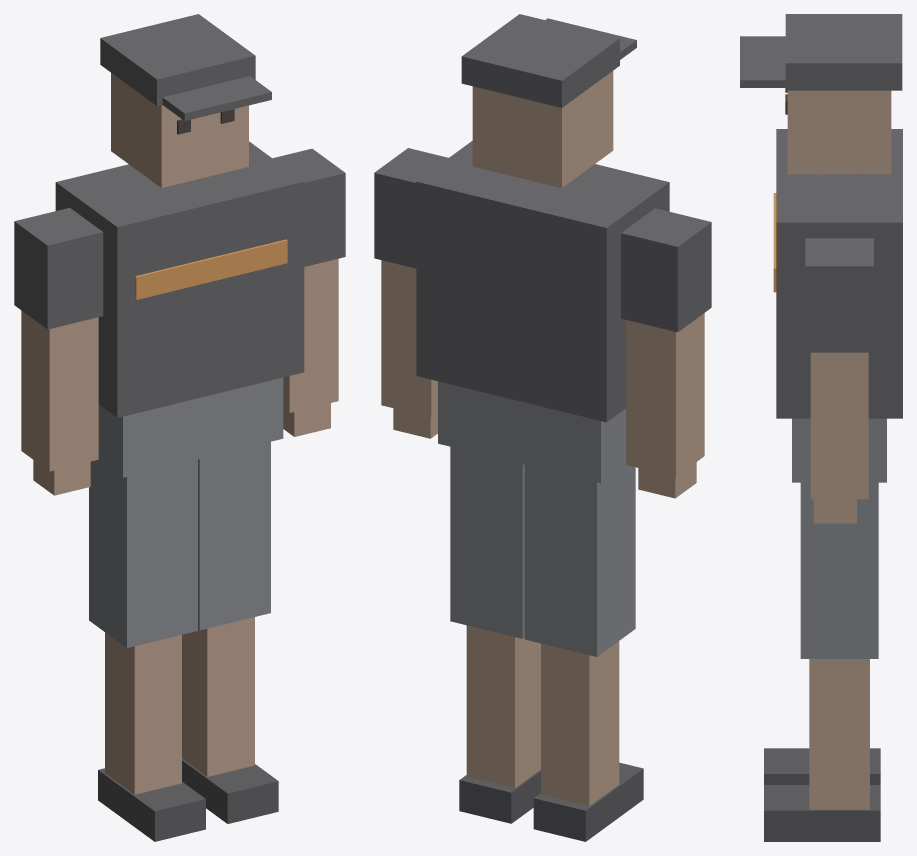
Rendered from hypertrophy_coach.glb.
3 renders of one model, left to right at view 1: azimuth 30°, elevation 25°; view 2: azimuth 150°, elevation 25°; view 3: azimuth 270°, elevation 25°, orthographic. The views are drawn at different scales.
Parts seen in each view (by area): view 1: torso, leg_r, leg_l, arm_r, head, arm_l; view 2: torso, leg_r, leg_l, arm_r, head, arm_l; view 3: leg_l, torso, head, arm_l, leg_r.
Part boxes in pixels (x1=…): torso: x1=55, y1=141, x2=304, y2=477; leg_r: x1=89, y1=459, x2=205, y2=841; leg_l: x1=182, y1=441, x2=278, y2=823; arm_r: x1=14, y1=207, x2=103, y2=495; head: x1=100, y1=14, x2=271, y2=187; arm_l: x1=273, y1=148, x2=345, y2=436; torso: x1=416, y1=141, x2=669, y2=483; leg_r: x1=524, y1=465, x2=643, y2=841; leg_l: x1=450, y1=446, x2=540, y2=823; arm_r: x1=621, y1=208, x2=711, y2=498; head: x1=461, y1=14, x2=636, y2=188; arm_l: x1=374, y1=148, x2=448, y2=438; leg_l: x1=764, y1=482, x2=880, y2=841; torso: x1=773, y1=129, x2=902, y2=482; head: x1=740, y1=14, x2=902, y2=174; arm_l: x1=805, y1=238, x2=873, y2=523; leg_r: x1=764, y1=748, x2=880, y2=784.
Bounding box in the file's own units: 0.8641 × 2.08 × 0.3979.
